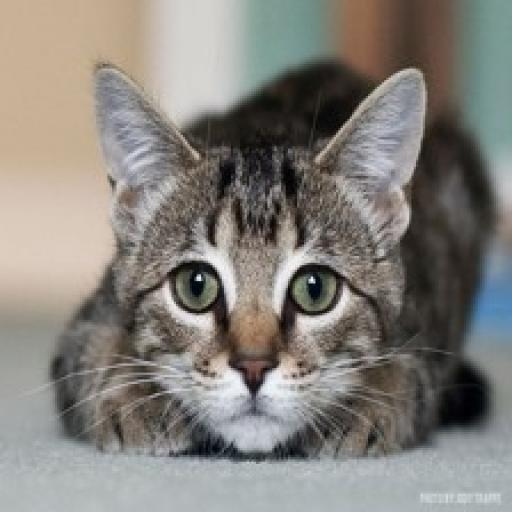cat: (40, 52, 498, 458)
